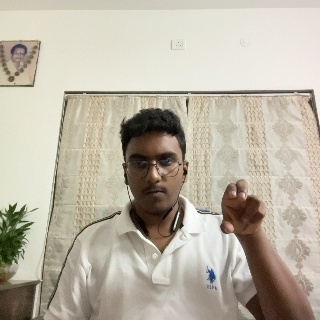Face: (120, 108, 188, 216)
No: (219, 177, 271, 253)
